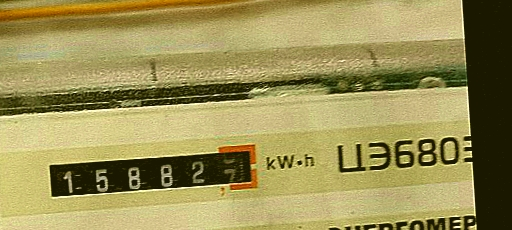1: (63, 165, 78, 195)
2: (190, 158, 208, 185)
5: (94, 165, 113, 196)
7: (223, 165, 237, 183)
8: (126, 163, 144, 192), (159, 160, 176, 189)
screen: (38, 134, 267, 209)
